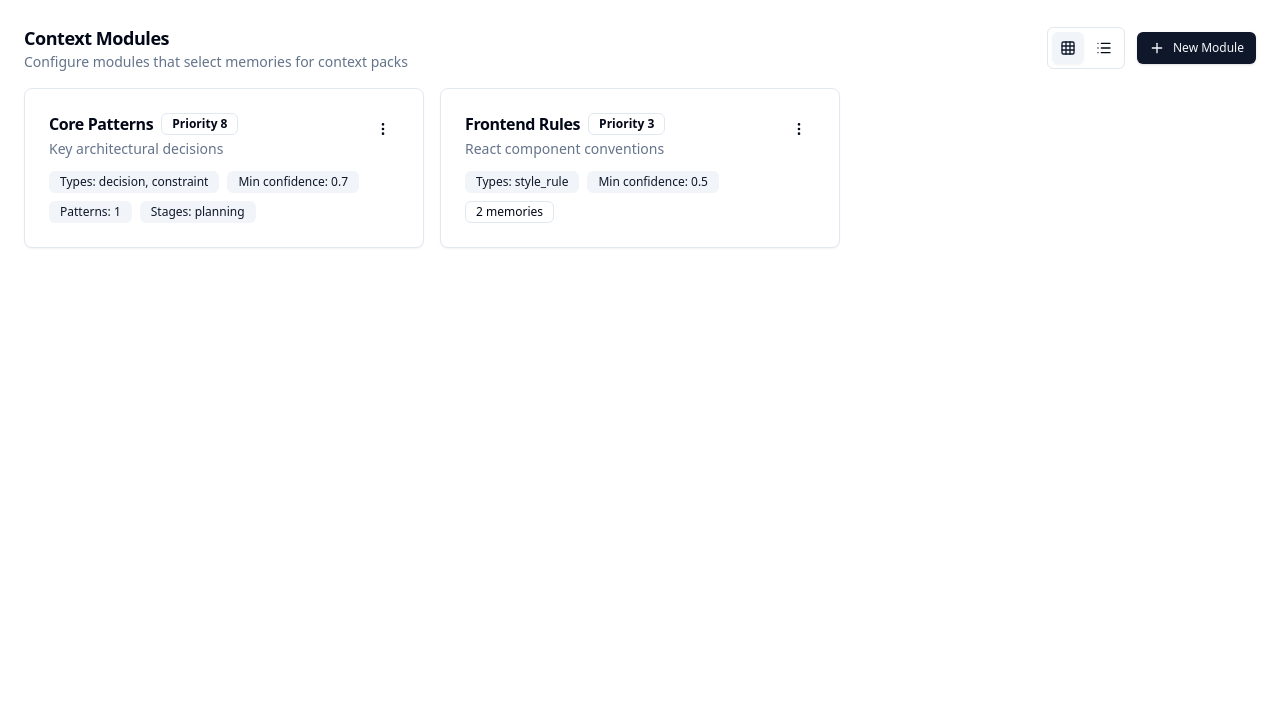
Scenario: ContextModulesTab › Create Module Flow › shows validation error when name is empty on submit
Click the button "New Module" at (1196, 48), box [1137, 32, 1256, 64]
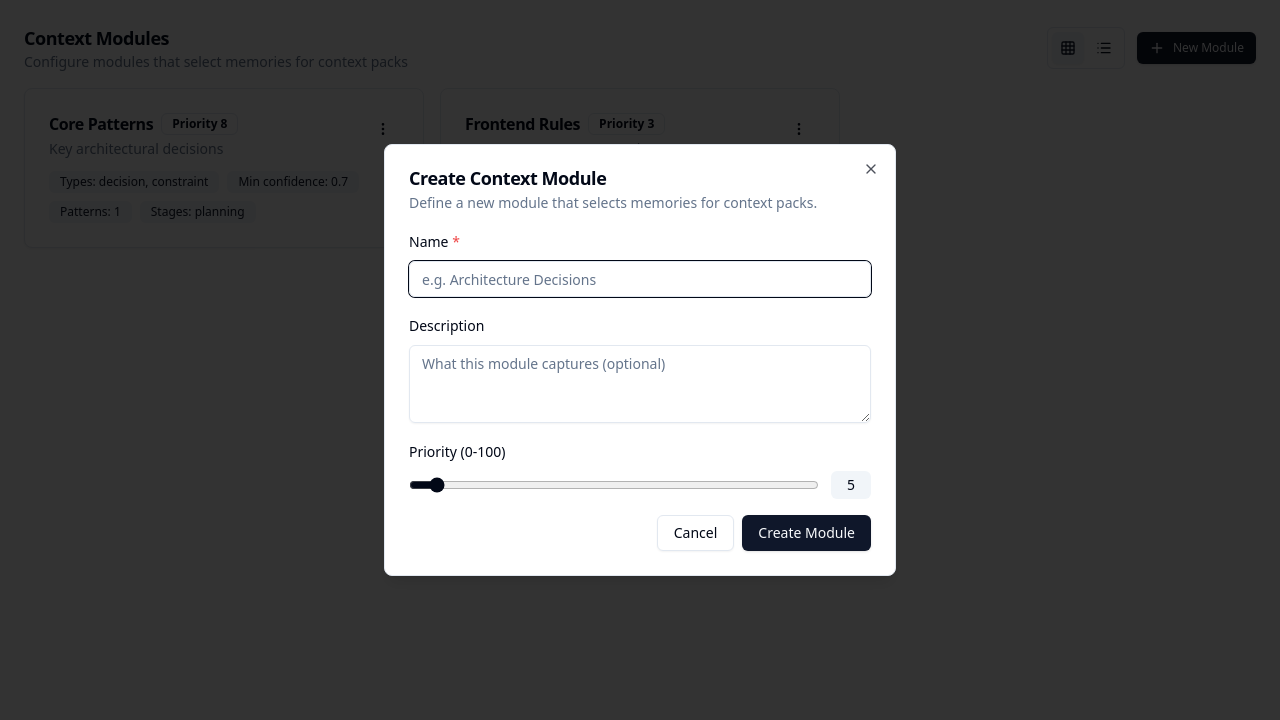
# Submit without filling name
Click the button "Create Module" at (807, 533), box [742, 515, 871, 551]
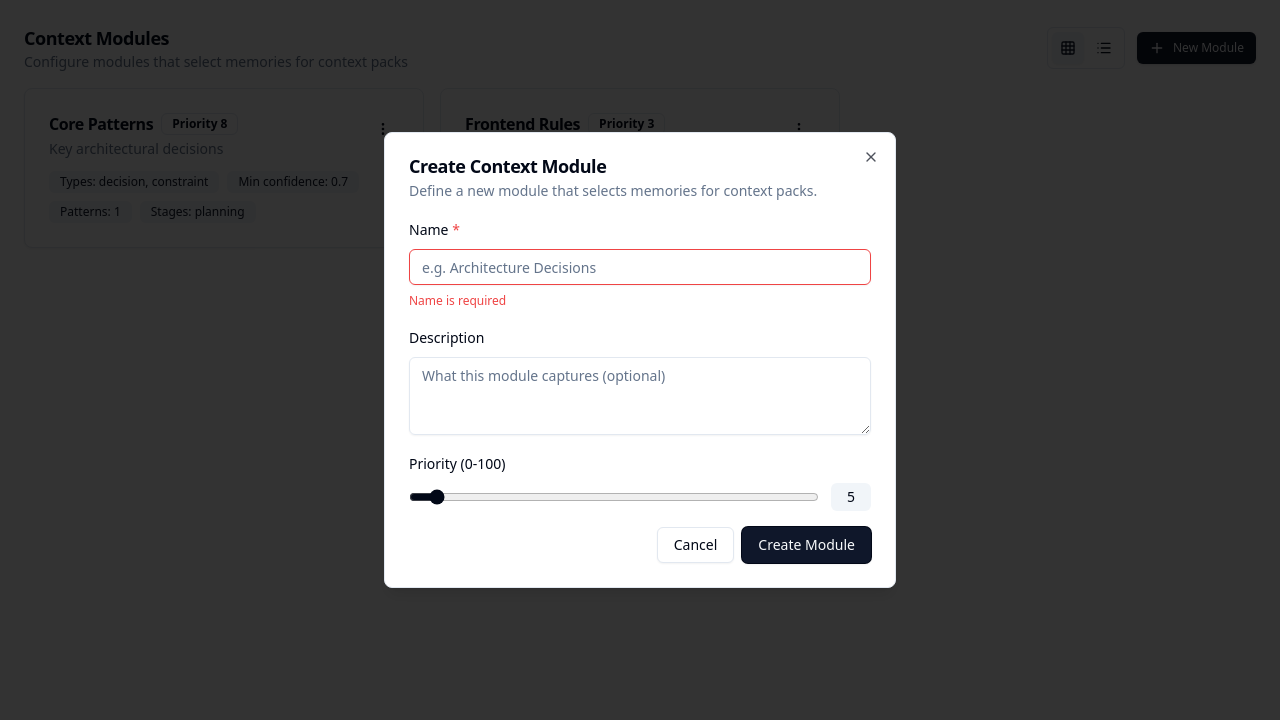
Result: the text "Name is required" is shown at [409, 292, 506, 309]
